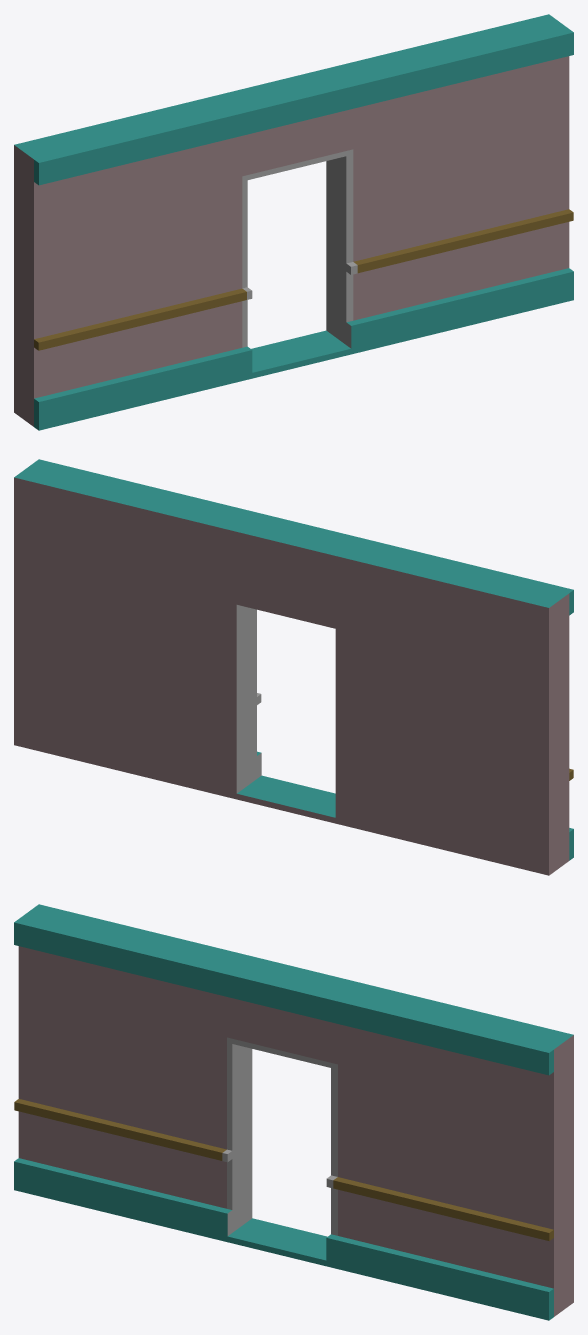
File: SM_DoorWall.fbx
The picture shows the model from 3 angles, top to bottom: view 1: azimuth 30°, elevation 25°; view 2: azimuth 150°, elevation 25°; view 3: azimuth 330°, elevation 25°; orthographic projection.
Parts seen in each view (by area): view 1: SM_Wall_Door_withFrame_500x240; view 2: SM_Wall_Door_withFrame_500x240; view 3: SM_Wall_Door_withFrame_500x240.
Part boxes in pixels (x1,y1,x2,y2): SM_Wall_Door_withFrame_500x240: [14, 14, 573, 430]; SM_Wall_Door_withFrame_500x240: [14, 459, 573, 875]; SM_Wall_Door_withFrame_500x240: [14, 904, 573, 1320].
Bounding box in the file's own units: 500 × 239 × 40.27.
